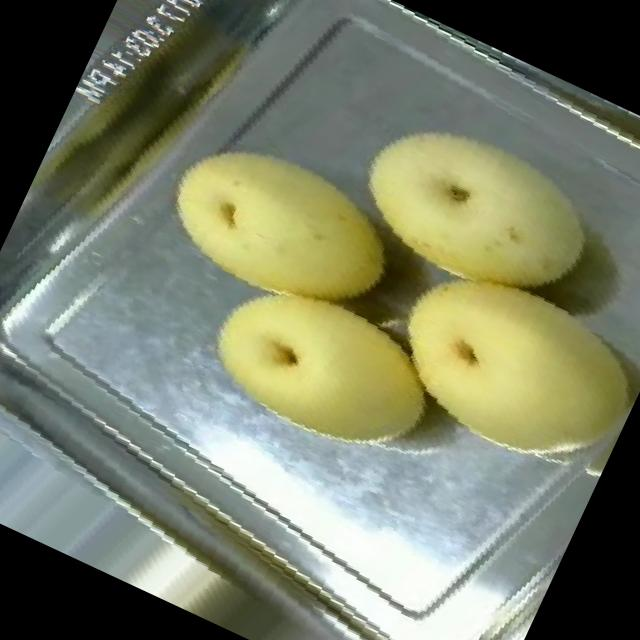Fruit: (160, 226, 480, 508), (119, 86, 437, 368), (350, 224, 640, 515), (317, 76, 628, 344)
